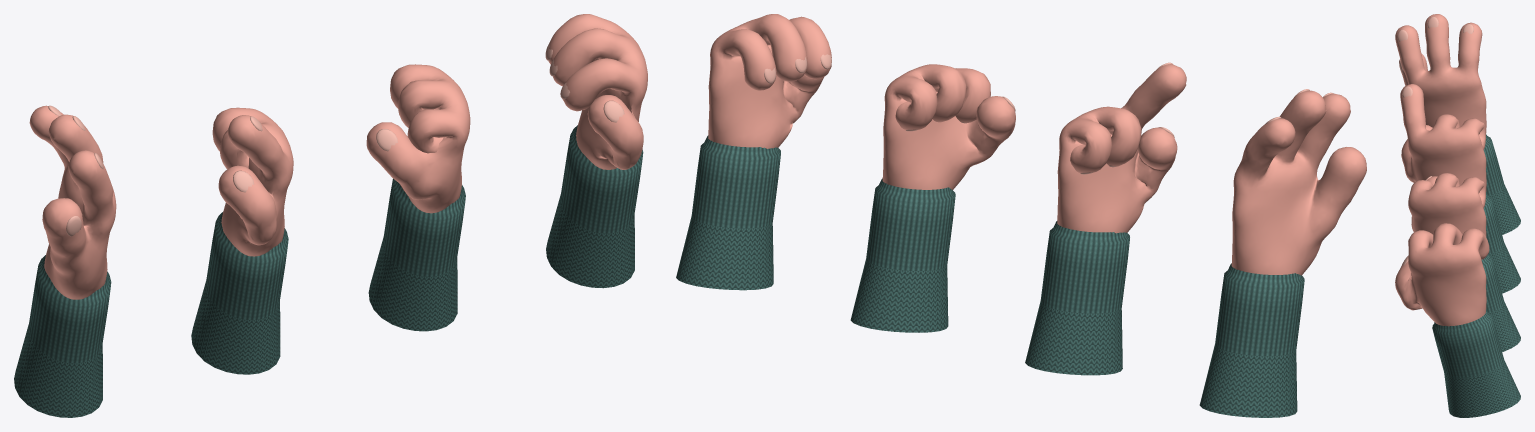
File: lineup_thumb.glb
3 views of the same model, side by side, from view 1: azimuth 30°, elevation 25°; view 2: azimuth 150°, elevation 25°; view 3: azimuth 270°, elevation 25° (orthographic). The views are drawn at different scales.
Parts seen in each view (by area): view 1: grip_Hand, point_Sleeve_teal, relaxed_Sleeve_teal, fist_Sleeve_teal, fist_Hand, grip_Sleeve_teal, relaxed_Hand, point_Hand, grip_Nails; view 2: relaxed_Hand, point_Hand, fist_Hand, grip_Hand, fist_Sleeve_teal, relaxed_Sleeve_teal, point_Sleeve_teal, grip_Sleeve_teal; view 3: grip_Hand, relaxed_Hand, grip_Sleeve_teal, point_Hand, fist_Hand, fist_Sleeve_teal, relaxed_Sleeve_teal, point_Sleeve_teal, relaxed_Nails.
Boxes of the visible parts, box(x1,y1,x2,y2) form: grip_Hand: box(548, 14, 647, 169); point_Sleeve_teal: box(191, 212, 288, 374); relaxed_Sleeve_teal: box(14, 255, 111, 417); fist_Sleeve_teal: box(368, 178, 465, 331); fist_Hand: box(366, 64, 470, 213); grip_Sleeve_teal: box(546, 125, 643, 288); relaxed_Hand: box(29, 105, 116, 299); point_Hand: box(212, 107, 293, 256); grip_Nails: box(545, 43, 624, 122); relaxed_Hand: box(1231, 90, 1366, 275); point_Hand: box(1057, 64, 1186, 233); fist_Hand: box(882, 64, 1015, 189); grip_Hand: box(708, 14, 831, 148); fist_Sleeve_teal: box(850, 178, 955, 332); relaxed_Sleeve_teal: box(1199, 263, 1304, 417); point_Sleeve_teal: box(1025, 221, 1129, 375); grip_Sleeve_teal: box(676, 135, 780, 290); grip_Hand: box(1395, 223, 1489, 326); relaxed_Hand: box(1395, 14, 1486, 136); grip_Sleeve_teal: box(1432, 310, 1520, 417); point_Hand: box(1400, 84, 1486, 194); fist_Hand: box(1408, 173, 1486, 236); fist_Sleeve_teal: box(1481, 254, 1520, 351); relaxed_Sleeve_teal: box(1483, 134, 1520, 234); point_Sleeve_teal: box(1483, 193, 1520, 293); relaxed_Nails: box(1397, 16, 1473, 73).
Size of the model in its own units: 0.6447 by 0.3033 by 0.1633.
4 materials, 2 textured.
